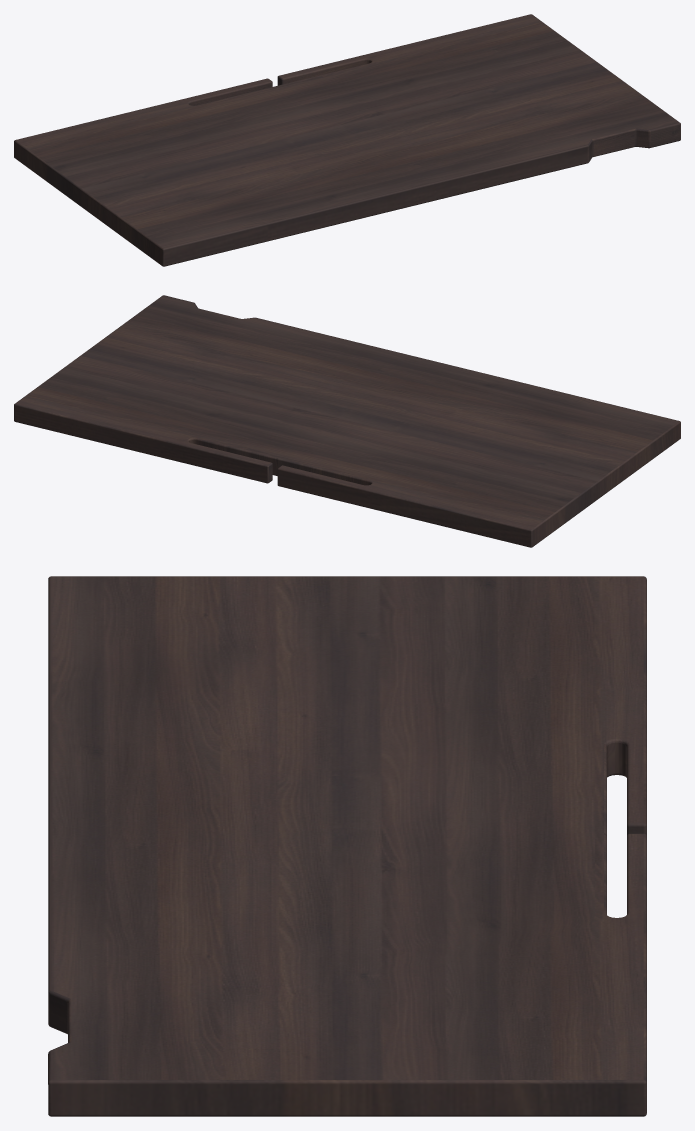
File: desk.glb
The picture shows the model from 3 angles, top to bottom: view 1: azimuth 30°, elevation 25°; view 2: azimuth 150°, elevation 25°; view 3: azimuth 270°, elevation 25°; orthographic projection. The views are drawn at different scales.
Parts seen in each view (by area): view 1: default; view 2: default; view 3: default.
Part boxes in pixels (x1,y1,x2,y2): default: (14,14,680,266); default: (14,295,680,547); default: (48,576,646,1116).
Size of the model in its own units: 1.2 by 0.04 by 0.6.
Materials: 1 (1 with a texture image).
